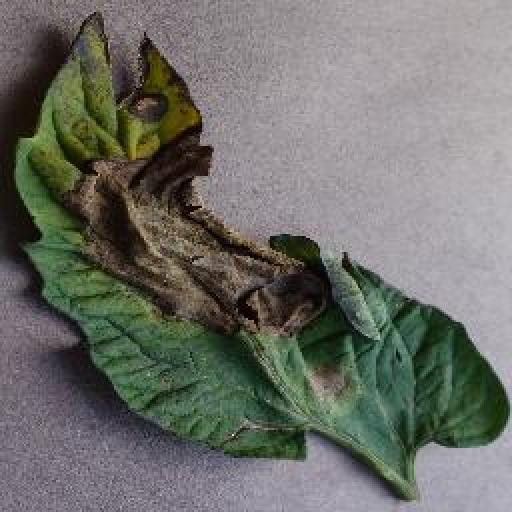Late Blight: (16, 10, 512, 466)
